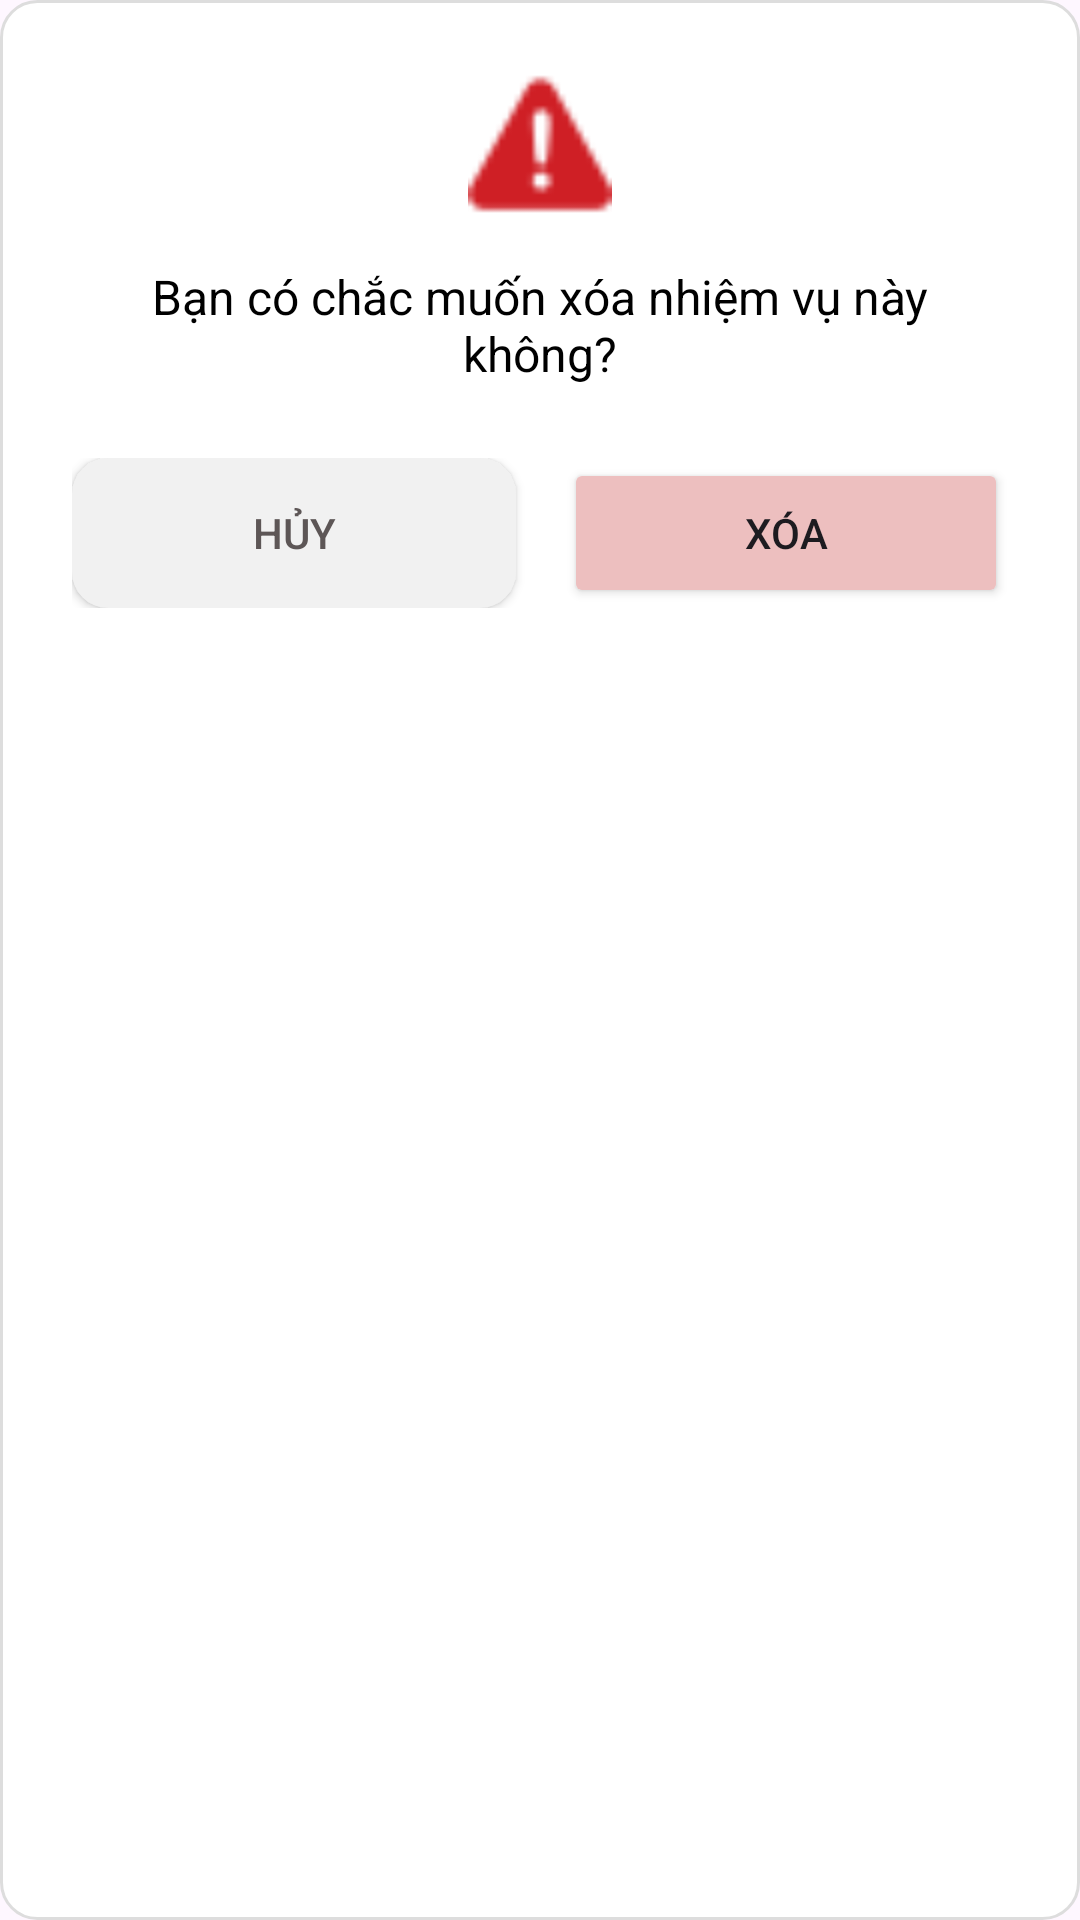

Named icons in this screenshot (1080×1920) and their centers, [x,y]:
warning: [540,144]
